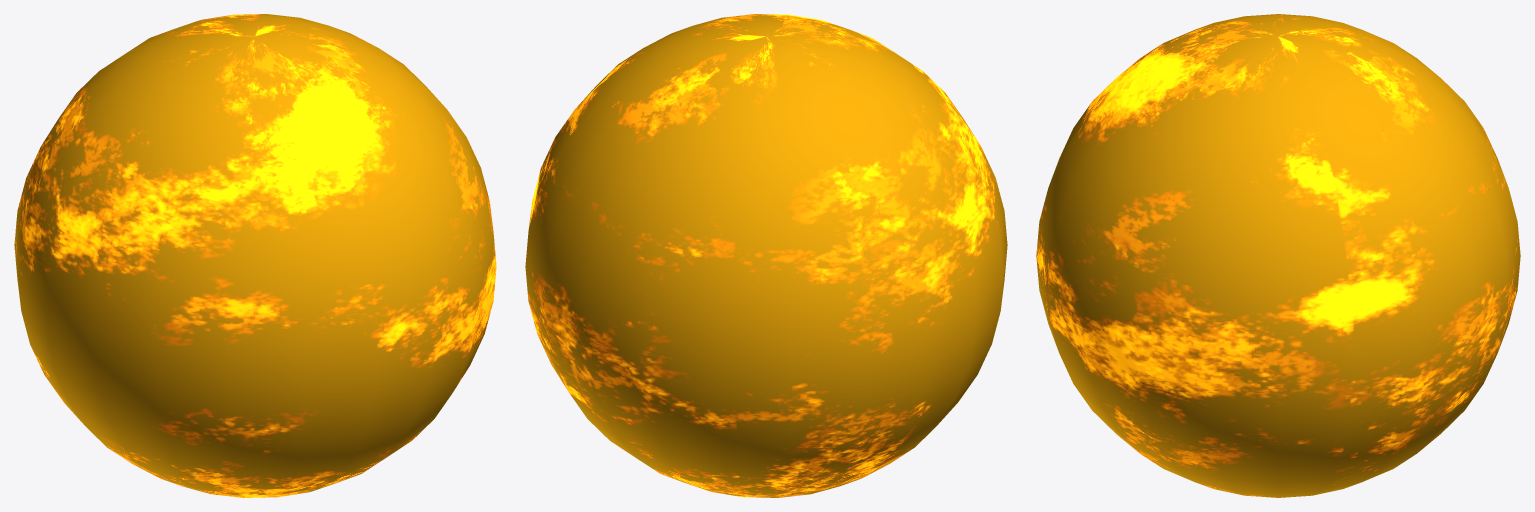
File: sun2_mesh.fbx
3 renders of one model, left to right at view 1: azimuth 30°, elevation 25°; view 2: azimuth 150°, elevation 25°; view 3: azimuth 270°, elevation 25°, orthographic.
Visible parts, largest first — view 1: sun2_outer_mesh; view 2: sun2_outer_mesh; view 3: sun2_outer_mesh.
Part boxes in pixels (bbox=[...]): sun2_outer_mesh: bbox=[14, 14, 496, 497]; sun2_outer_mesh: bbox=[525, 14, 1007, 497]; sun2_outer_mesh: bbox=[1036, 14, 1520, 497].
Size of the model in its own units: 0.4135 by 0.4135 by 0.4135.
